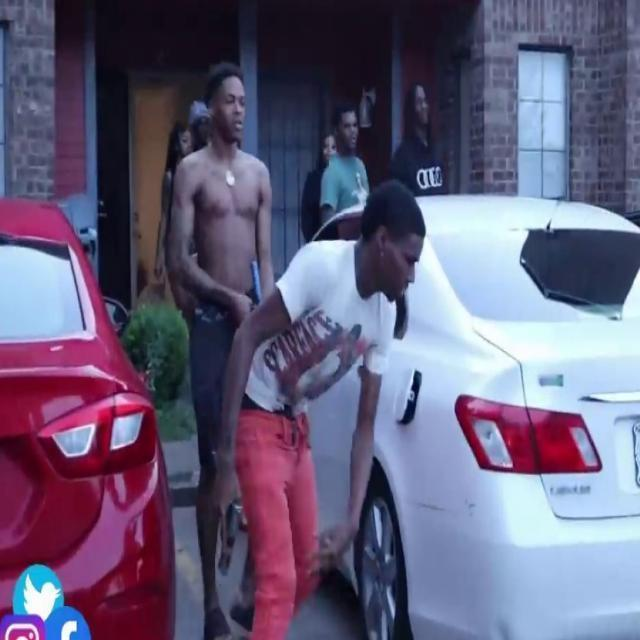Handgun: (206, 460, 250, 592)
